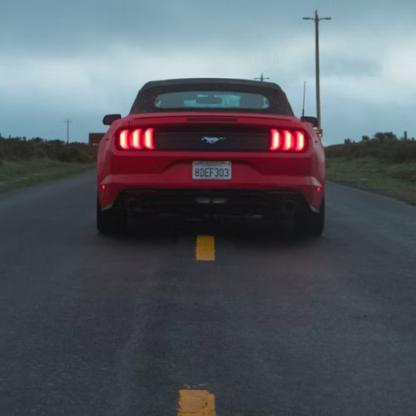vehicle: (97, 78, 326, 237)
